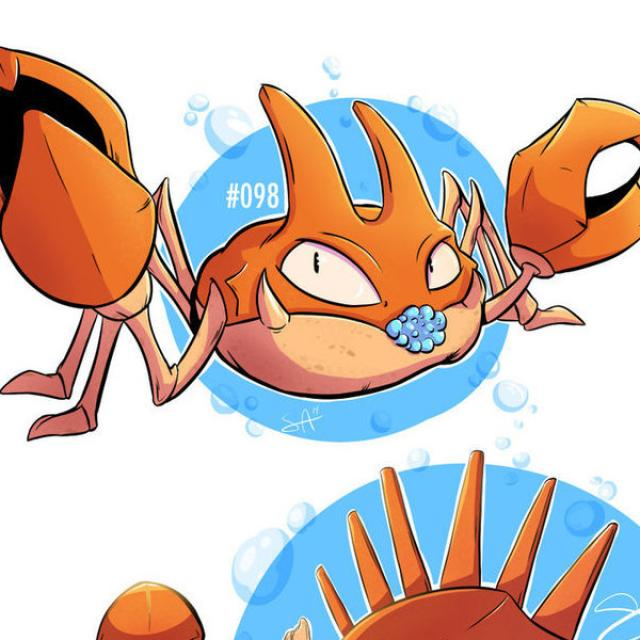Krabby: (0, 86, 635, 403)
